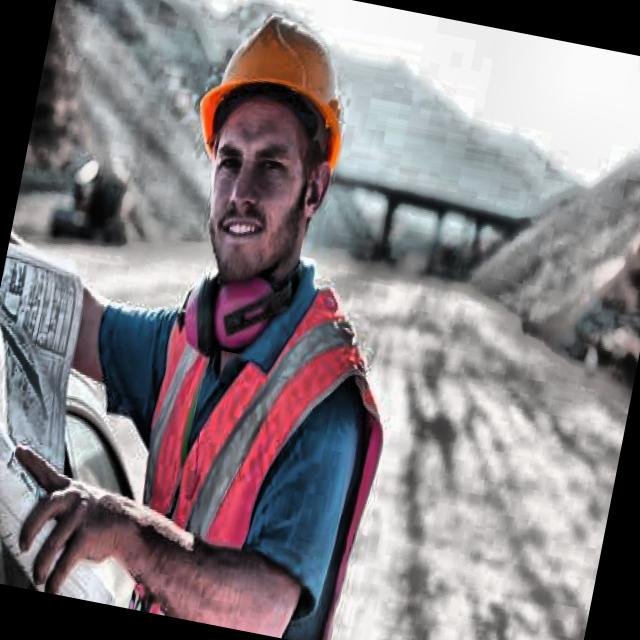helmet: (144, 0, 384, 316)
